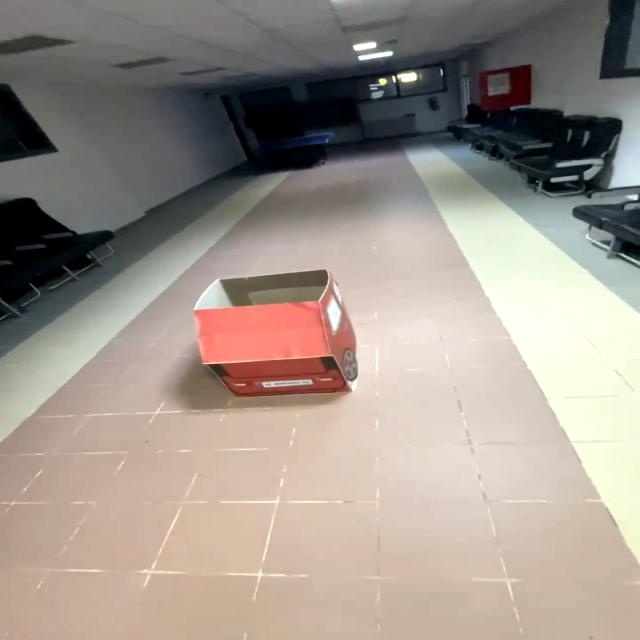red_car: (126, 248, 382, 431)
